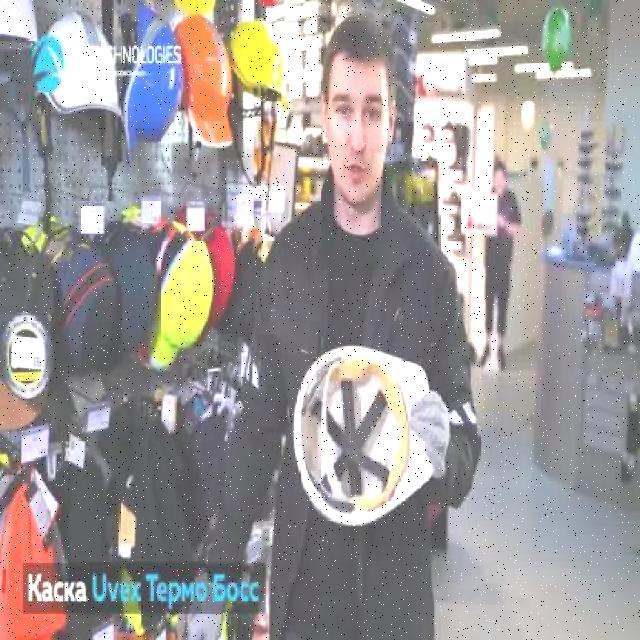Gloves: (408, 386, 448, 479), (186, 569, 223, 640)
Helmet: (292, 337, 437, 526), (125, 4, 186, 170), (42, 8, 125, 127), (177, 11, 234, 147), (227, 18, 290, 114), (0, 0, 45, 57)
